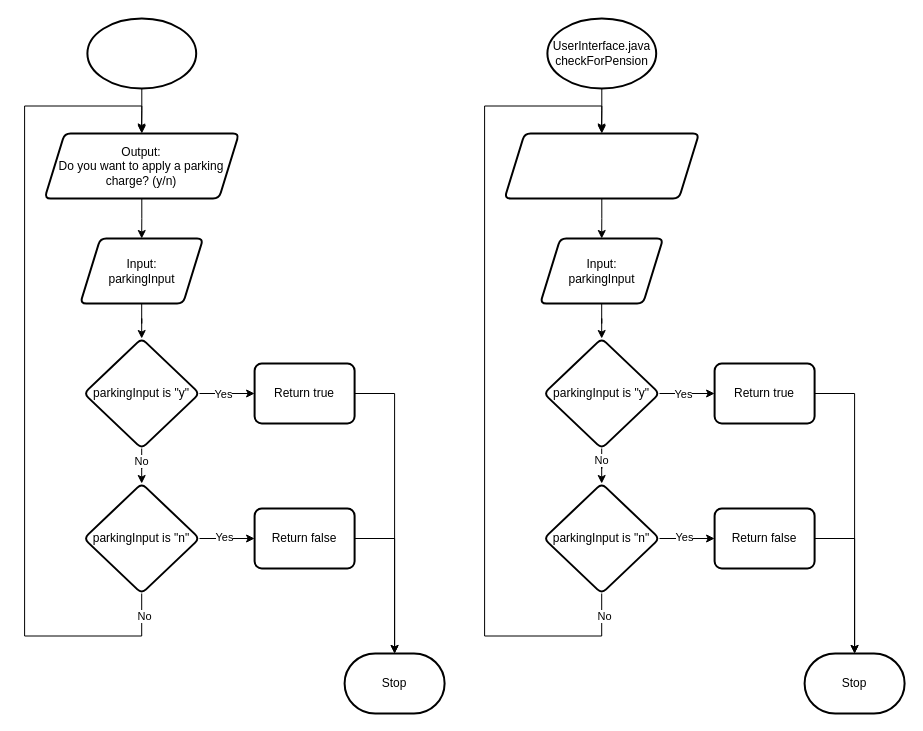
The diagram is 923 pixels wide and 731 high, and some of its shapes have lost their labels. The shapes that lost their labels are listed below. From the top down, each one's centre as x and y in pixels, then its label:
At [141,53]: "UserInterface.java checkForParking".
At [601,165]: "Output: Do you want to apply a teachers pension? (y/n)".
